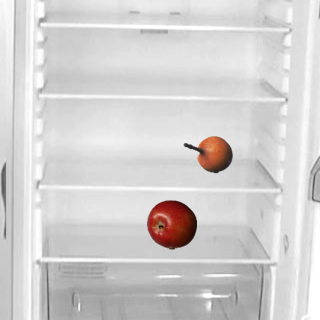Apple Braeburn: (146, 199, 196, 249)
Granadilla: (182, 129, 232, 179)
